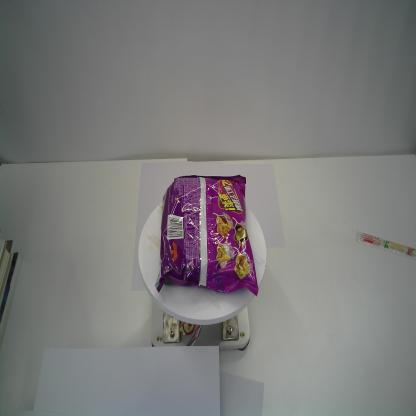Instant Noodles: (154, 172, 259, 301)
